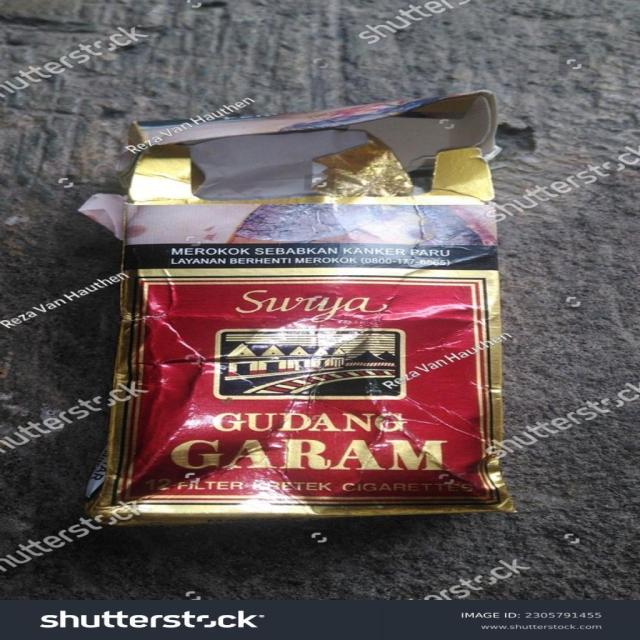smoking: (70, 90, 513, 529)
